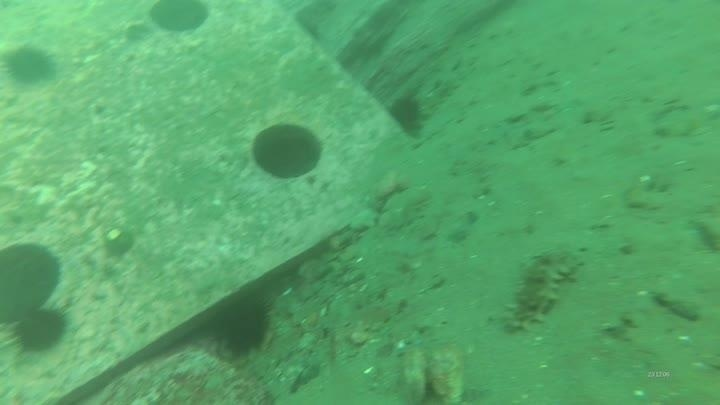echinus: (209, 292, 276, 359), (9, 301, 72, 357), (1, 41, 58, 88), (386, 93, 428, 137)
holothurian: (502, 244, 584, 334)
